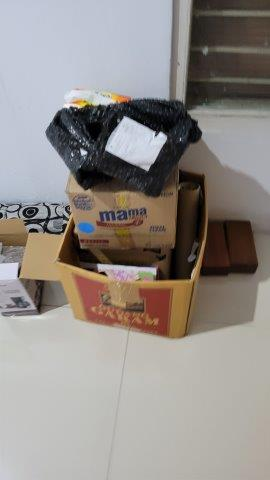kardus: (58, 175, 213, 338), (1, 216, 44, 315)
kertas: (106, 114, 166, 176)
